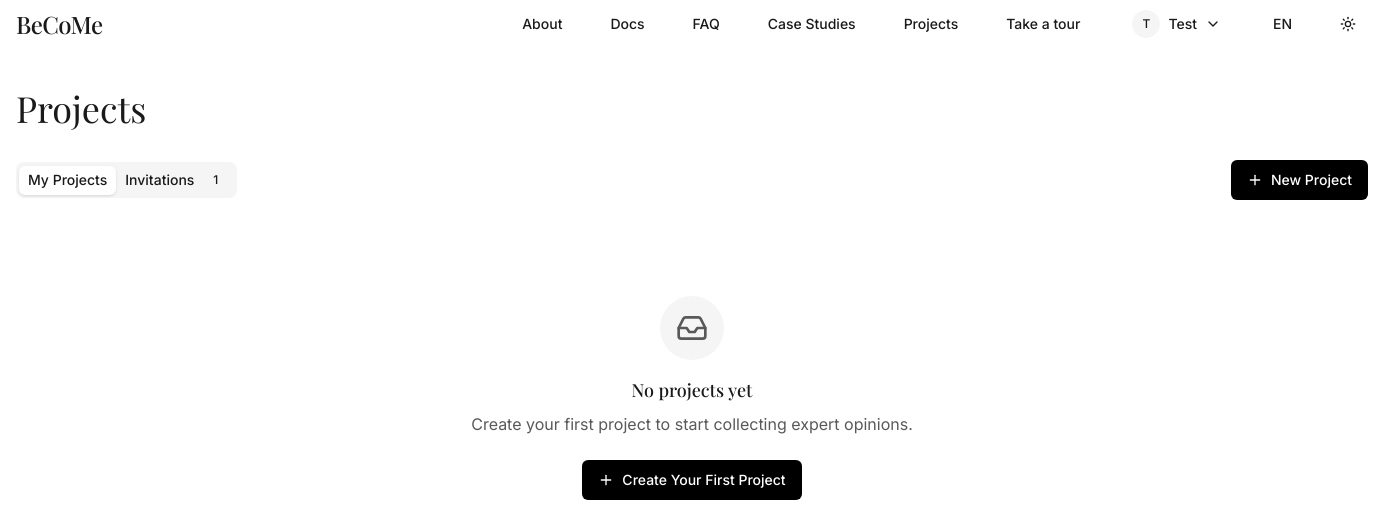
Test case: Projects › Invitations › shows the expert count on the invitation card
Click the tab "Invitations 1".
click(175, 180)  # box x1=116 y1=166 x2=234 y2=194
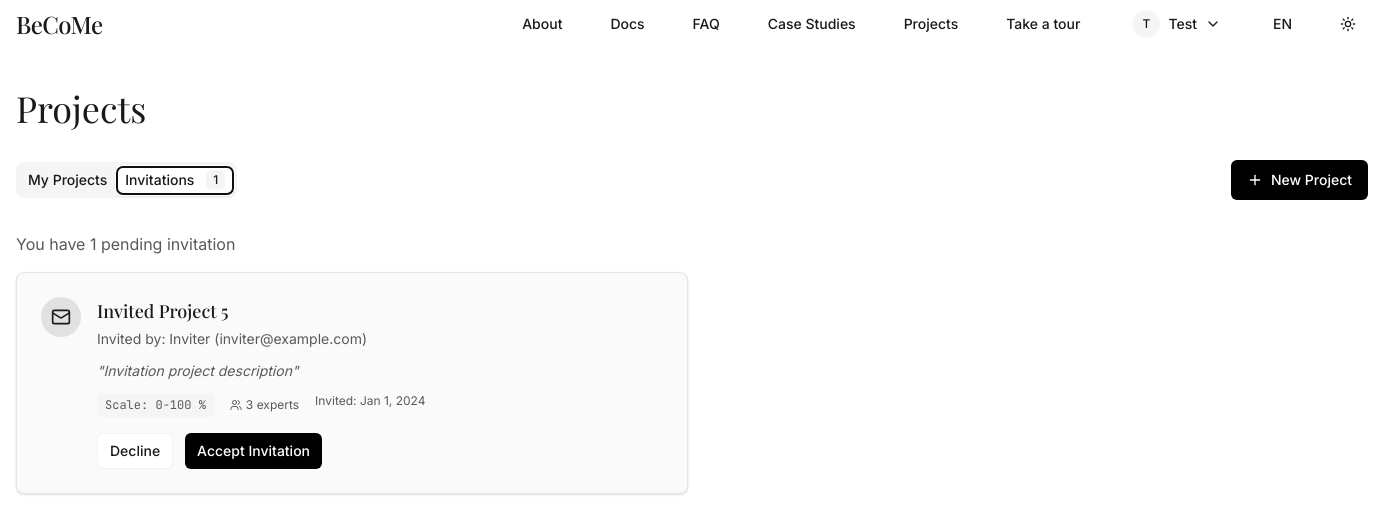
Check: the text "3 experts" is shown, box x1=230 y1=393 x2=299 y2=417
